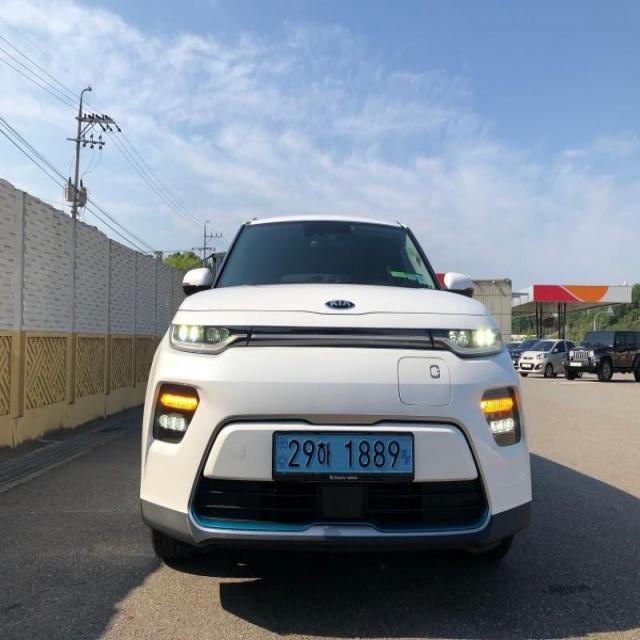EV_plate: (273, 431, 415, 486)
car: (138, 210, 534, 575)
